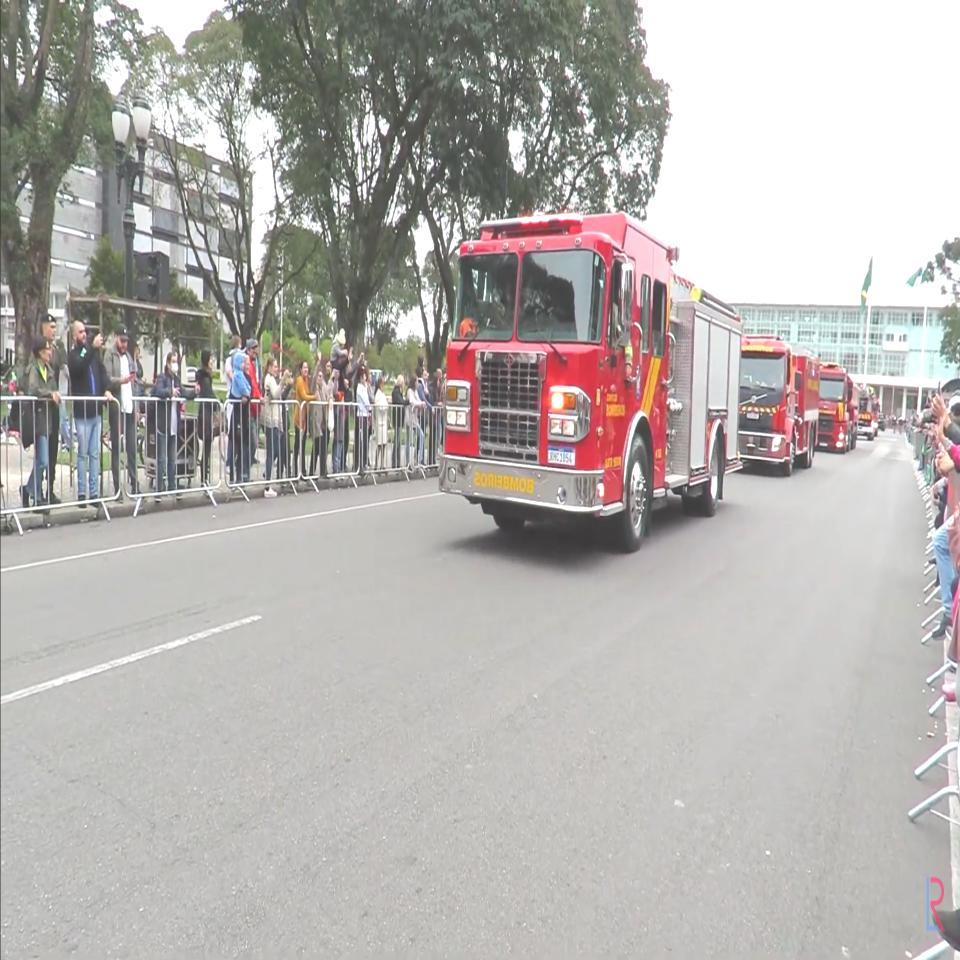bombeiro: (436, 205, 746, 548), (739, 333, 821, 475), (820, 358, 858, 453)
